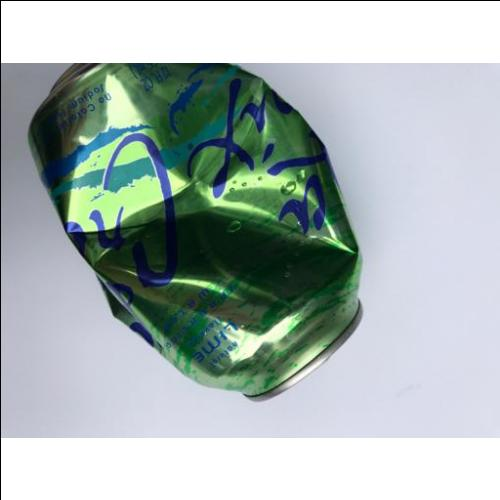metal: (30, 67, 364, 396)
